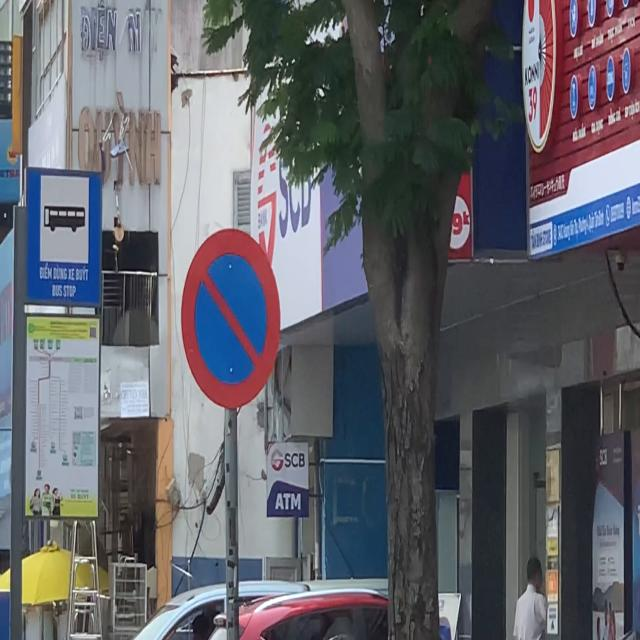Ben xe buyt: (35, 167, 93, 306)
Cam do: (183, 222, 280, 411)
